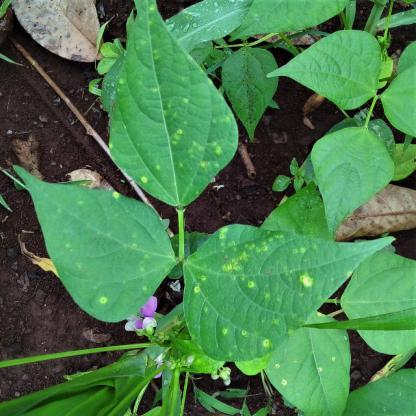Beans_Rust: (186, 223, 393, 365), (7, 164, 175, 325), (109, 0, 238, 204)
